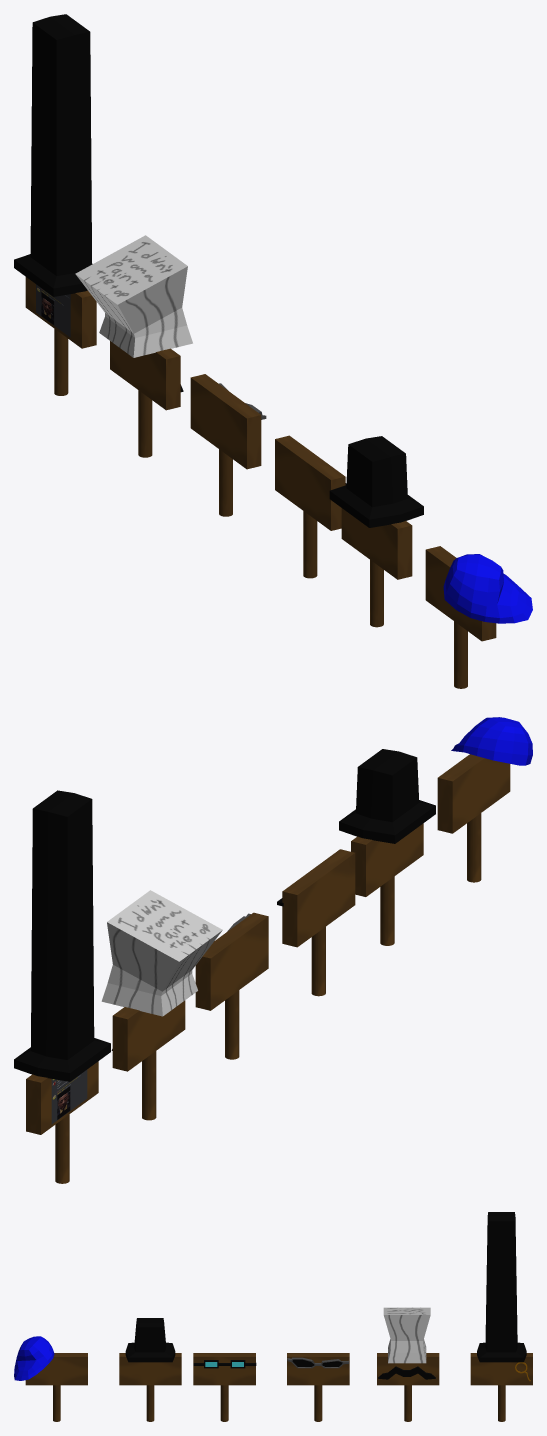
File: signs.glb
The picture shows the model from 3 angles, top to bottom: view 1: azimuth 30°, elevation 25°; view 2: azimuth 150°, elevation 25°; view 3: azimuth 270°, elevation 25°; orthographic projection. The views are drawn at different scales.
Parts seen in each view (by area): view 1: Cube.007, Cube.010, Cube.011, Cube.003, Cube.002, Cube.006, Cube.004, Cube.001, Cube, Cube.005, Plane; view 2: Cube.007, Cube.010, Cube.011, Cube.002, Cube.003, Cube, Cube.004, Cube.001, Cube.005, Cube.006, Plane; view 3: Cube.007, Cube.010, Cube.002, Cube.003, Cube.001, Cube.005, Cube, Cube.011, Cube.004, Cube.006, Cube.009, Cube.012 (+1 smaller).
Boxes of the visible parts, left/top/right/bottom form: Cube.007: left=14, top=14, right=92, bottom=296; Cube.010: left=75, top=235, right=192, bottom=357; Cube.011: left=329, top=436, right=423, bottom=527; Cube.003: left=190, top=374, right=261, bottom=516; Cube.002: left=275, top=435, right=345, bottom=578; Cube.006: left=443, top=554, right=532, bottom=623; Cube.004: left=110, top=341, right=180, bottom=457; Cube.001: left=341, top=508, right=412, bottom=627; Cube: left=425, top=546, right=496, bottom=688; Cube.005: left=25, top=277, right=96, bottom=395; Plane: left=36, top=284, right=70, bottom=337; Cube.007: left=14, top=790, right=110, bottom=1081; Cube.010: left=101, top=890, right=222, bottom=1016; Cube.011: left=339, top=749, right=435, bottom=843; Cube.002: left=282, top=849, right=355, bottom=996; Cube.003: left=195, top=912, right=268, bottom=1059; Cube: left=437, top=754, right=510, bottom=882; Cube.004: left=112, top=1000, right=185, bottom=1120; Cube.001: left=351, top=823, right=423, bottom=945; Cube.005: left=26, top=1061, right=98, bottom=1183; Cube.006: left=451, top=717, right=532, bottom=765; Plane: left=51, top=1069, right=87, bottom=1124; Cube.007: left=477, top=1212, right=526, bottom=1362; Cube.010: left=383, top=1307, right=430, bottom=1363; Cube.002: left=193, top=1353, right=255, bottom=1421; Cube.003: left=287, top=1353, right=349, bottom=1421; Cube.001: left=119, top=1353, right=181, bottom=1421; Cube.005: left=470, top=1353, right=532, bottom=1421; Cube: left=25, top=1353, right=87, bottom=1421; Cube.011: left=125, top=1318, right=175, bottom=1362; Cube.004: left=377, top=1353, right=439, bottom=1421; Cube.006: left=14, top=1336, right=54, bottom=1380; Cube.009: left=287, top=1357, right=348, bottom=1368; Cube.012: left=378, top=1366, right=435, bottom=1379.
Bounding box in the file's own units: 1.56 × 5.77 × 13.3.
12 materials, 3 textured.
